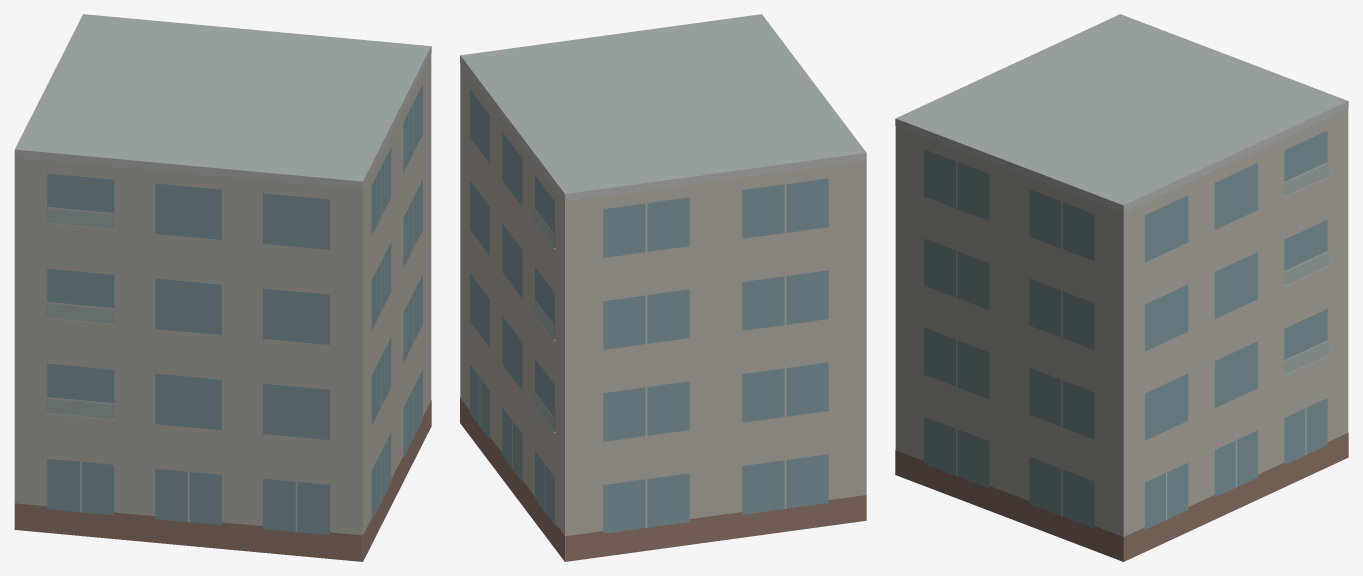
Rendered from survey-upis-32971749.glb.
3 views of the same model, side by side, from view 1: azimuth 30°, elevation 25°; view 2: azimuth 150°, elevation 25°; view 3: azimuth 270°, elevation 25° (orthographic). The views are drawn at different scales.
Parts seen in each view (by area): view 1: survey-upis-32971749.tmp; view 2: survey-upis-32971749.tmp; view 3: survey-upis-32971749.tmp.
Part boxes in pixels (left/top/right/bottom): survey-upis-32971749.tmp: left=14, top=14, right=431, bottom=561; survey-upis-32971749.tmp: left=460, top=14, right=866, bottom=561; survey-upis-32971749.tmp: left=895, top=14, right=1348, bottom=561.
Bounding box in the file's own units: 13.48 × 11.7 × 13.48.
